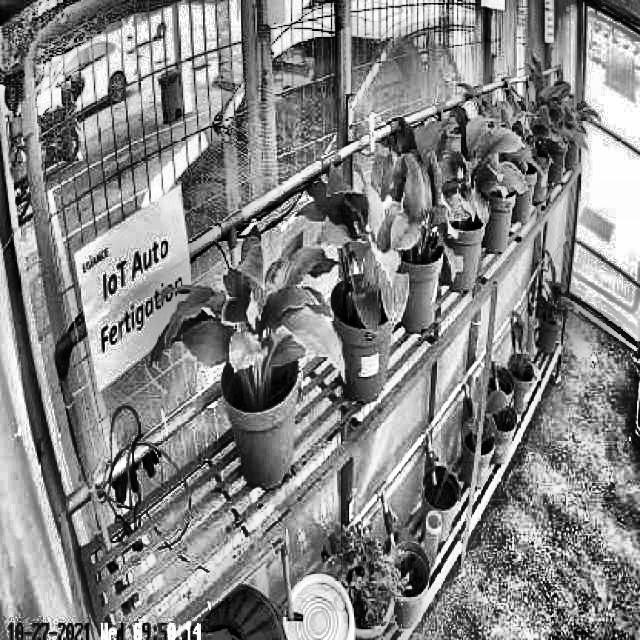plants: (153, 224, 344, 396), (302, 172, 408, 332), (364, 126, 466, 279), (415, 104, 531, 210)
